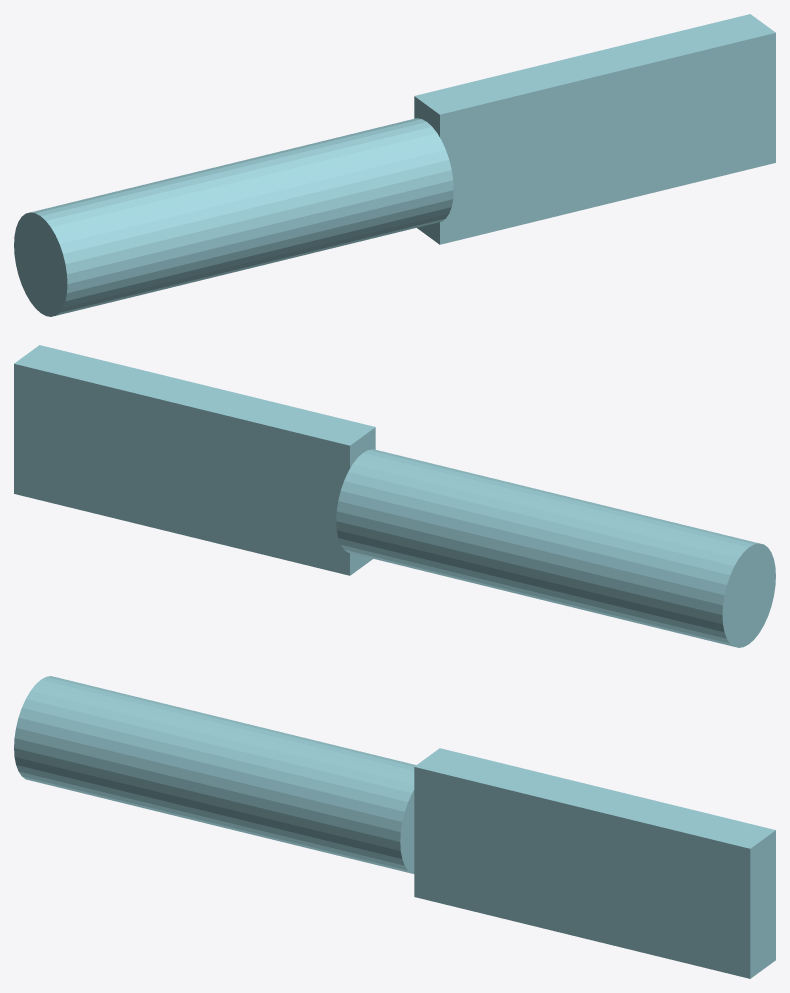
Rendered from cylinder_spatula_v6007.obj.
The picture shows the model from 3 angles, top to bottom: view 1: azimuth 30°, elevation 25°; view 2: azimuth 150°, elevation 25°; view 3: azimuth 330°, elevation 25°; orthographic projection.
Size of the model in its own units: 0.3185 by 0.0548 by 0.0408.
1 material, 1 textured.
